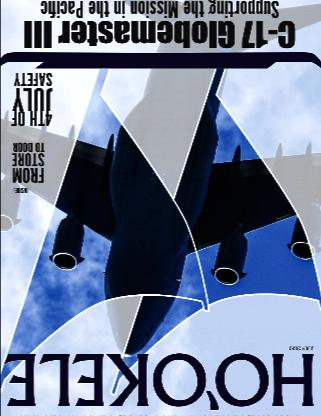C2: (1, 1, 320, 359)
